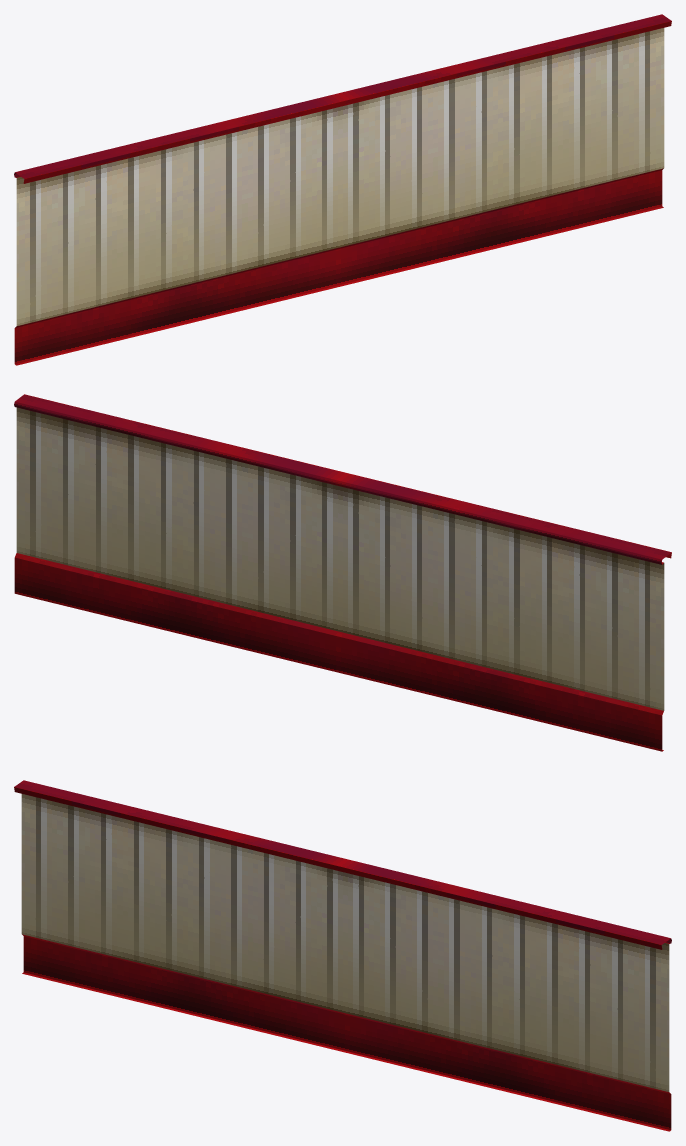
File: ct-wall.glb
3 views of the same model, one above another, from view 1: azimuth 30°, elevation 25°; view 2: azimuth 150°, elevation 25°; view 3: azimuth 330°, elevation 25° (orthographic).
Parts seen in each view (by area): view 1: Plane.002; view 2: Plane.002; view 3: Plane.002.
Boxes of the visible parts, <box> form: Plane.002: <box>14,14,671,365</box>; Plane.002: <box>14,394,671,751</box>; Plane.002: <box>14,780,671,1131</box>.
Size of the model in its own units: 32.68 by 9.27 by 0.9072.
1 material, 1 textured.
